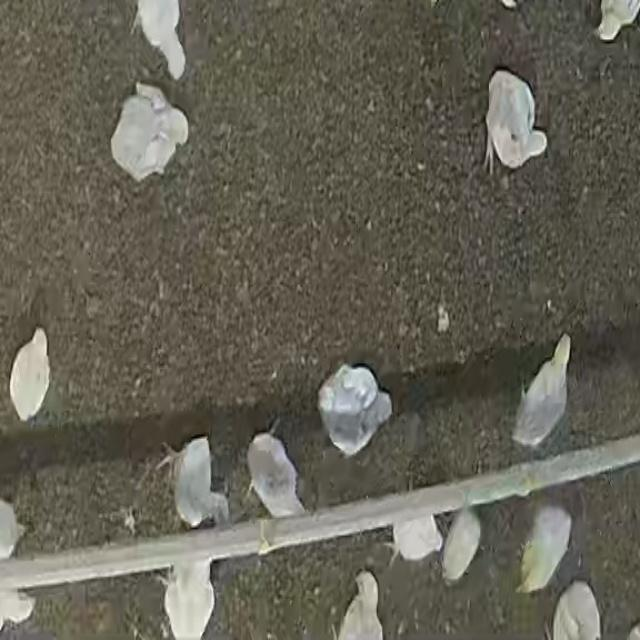chicken: (107, 88, 190, 182), (156, 435, 230, 529), (482, 69, 546, 173), (512, 334, 574, 441), (319, 372, 393, 451), (244, 430, 308, 520), (515, 502, 573, 594), (130, 1, 186, 80), (8, 327, 52, 425), (160, 562, 215, 637), (441, 508, 485, 584), (337, 570, 384, 639), (553, 581, 602, 640), (390, 514, 443, 567)
